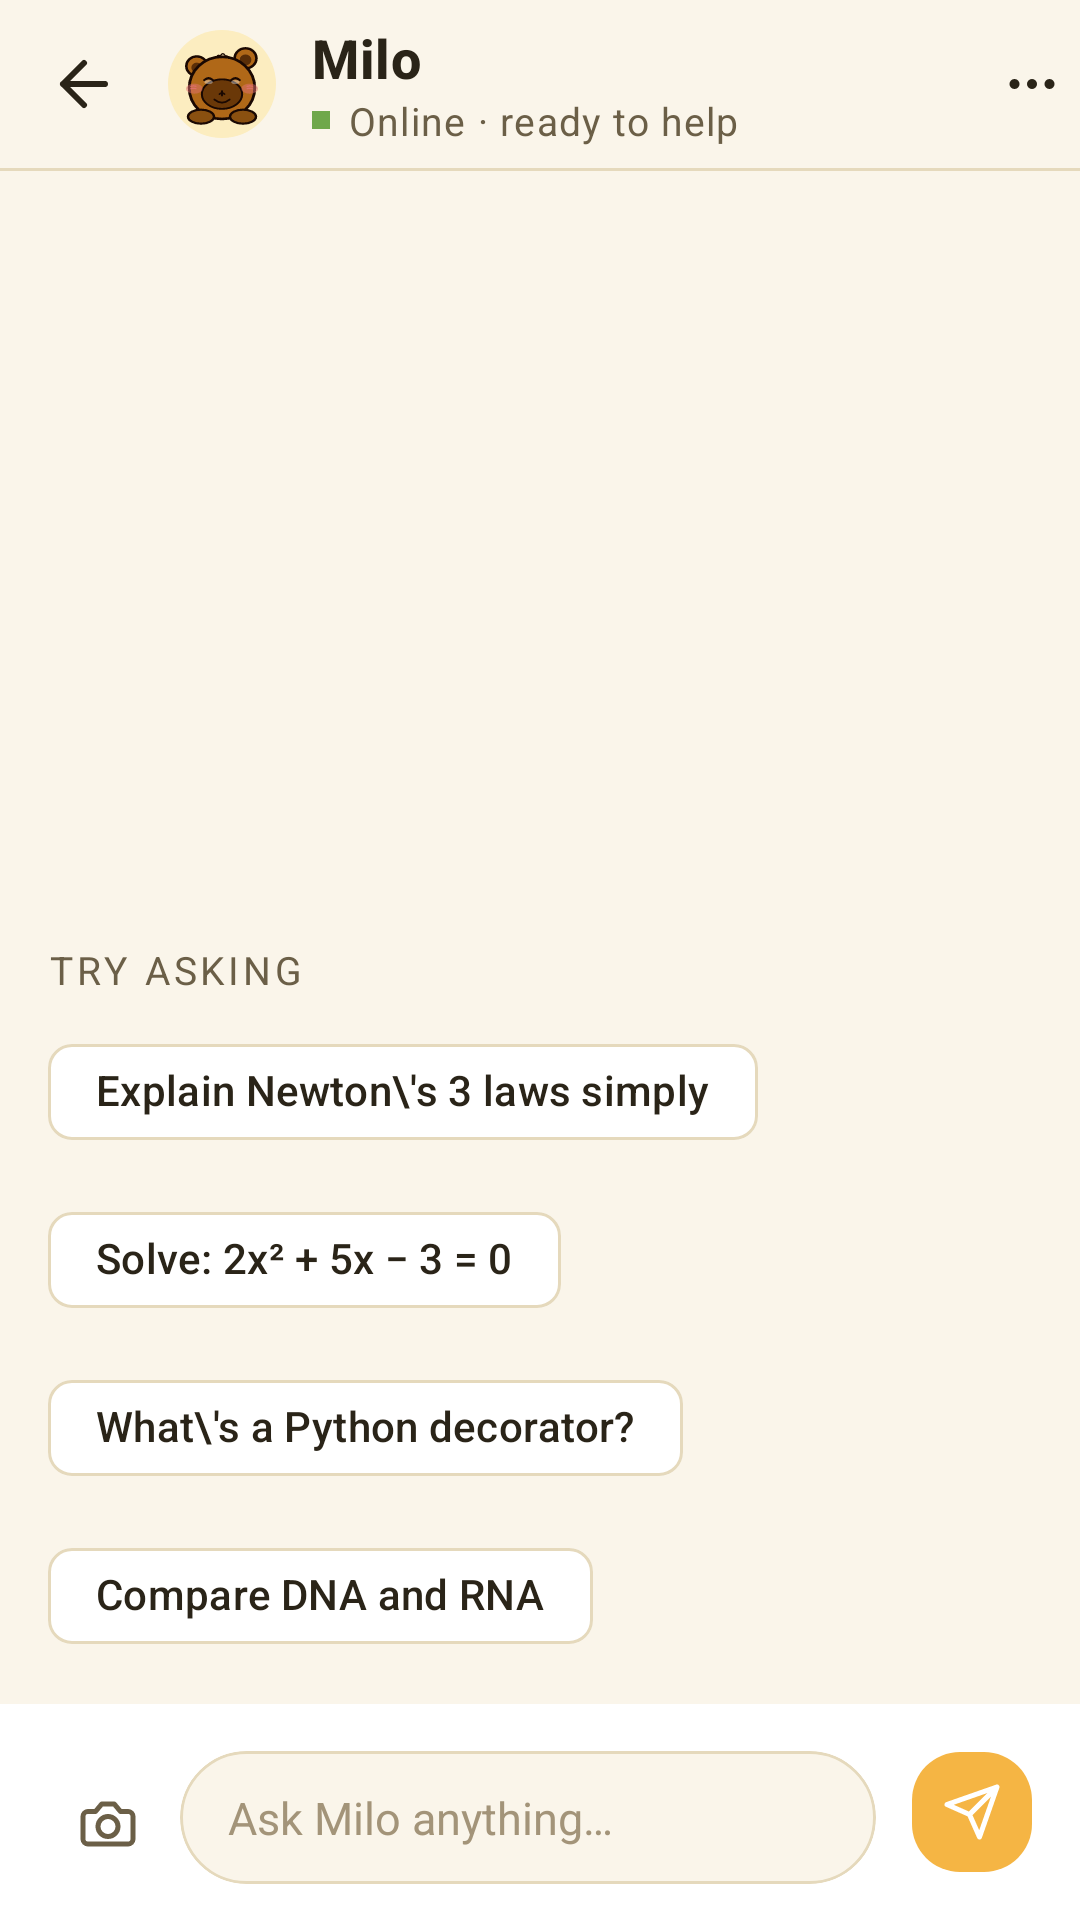

Icons on this 1080x1920 Android screen, each with its box as (x1, y1, x2, y2):
More: (1009, 79, 1055, 89)
Scan with camera: (80, 1801, 136, 1847)
Send: (912, 1752, 1032, 1872)
